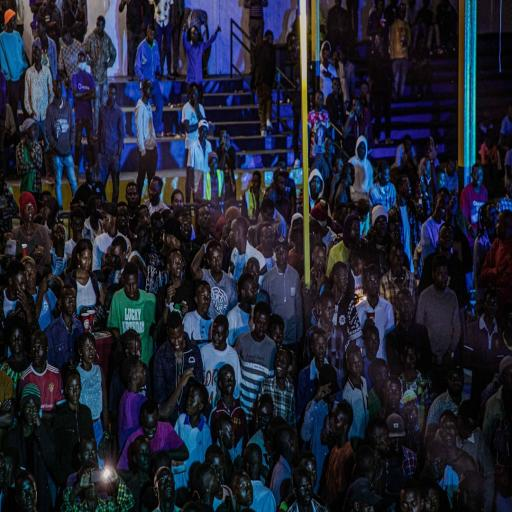face: (156, 468, 174, 500), (19, 480, 37, 512), (30, 338, 46, 368), (10, 330, 26, 360), (238, 478, 256, 504), (441, 417, 456, 447), (24, 399, 38, 428), (66, 379, 82, 404), (198, 285, 212, 313), (137, 444, 150, 473), (83, 443, 98, 468), (298, 479, 312, 505), (83, 339, 96, 366), (169, 327, 183, 352), (186, 390, 199, 416), (221, 367, 234, 393), (350, 355, 364, 379), (366, 273, 380, 297), (387, 385, 400, 410), (212, 322, 223, 350), (126, 275, 138, 300), (145, 418, 158, 440), (315, 336, 326, 362), (275, 353, 286, 379), (171, 253, 183, 276), (314, 248, 326, 271), (63, 293, 75, 315), (82, 250, 93, 274), (256, 314, 267, 337), (324, 299, 335, 321), (211, 248, 221, 272), (338, 268, 348, 292), (25, 201, 36, 222), (276, 246, 286, 266), (103, 214, 111, 234)
